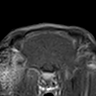Brain: (26, 35, 71, 68)
